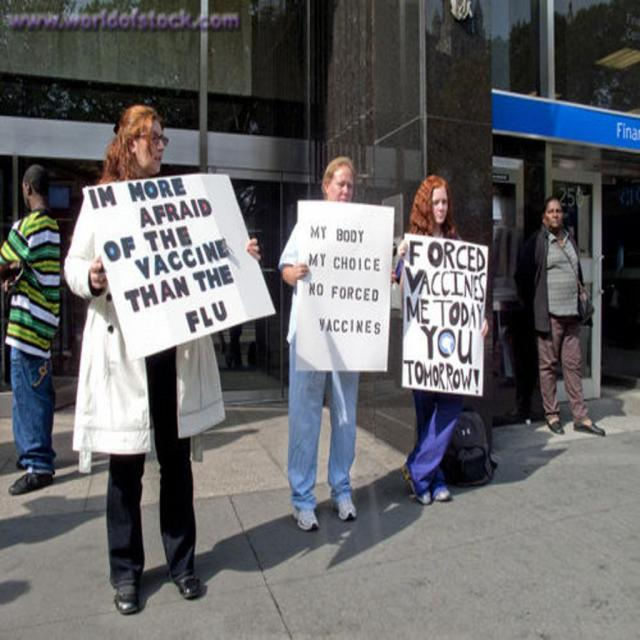nomask: (136, 118, 164, 172), (330, 164, 352, 206), (430, 186, 448, 222), (544, 200, 560, 227), (22, 180, 29, 207)
